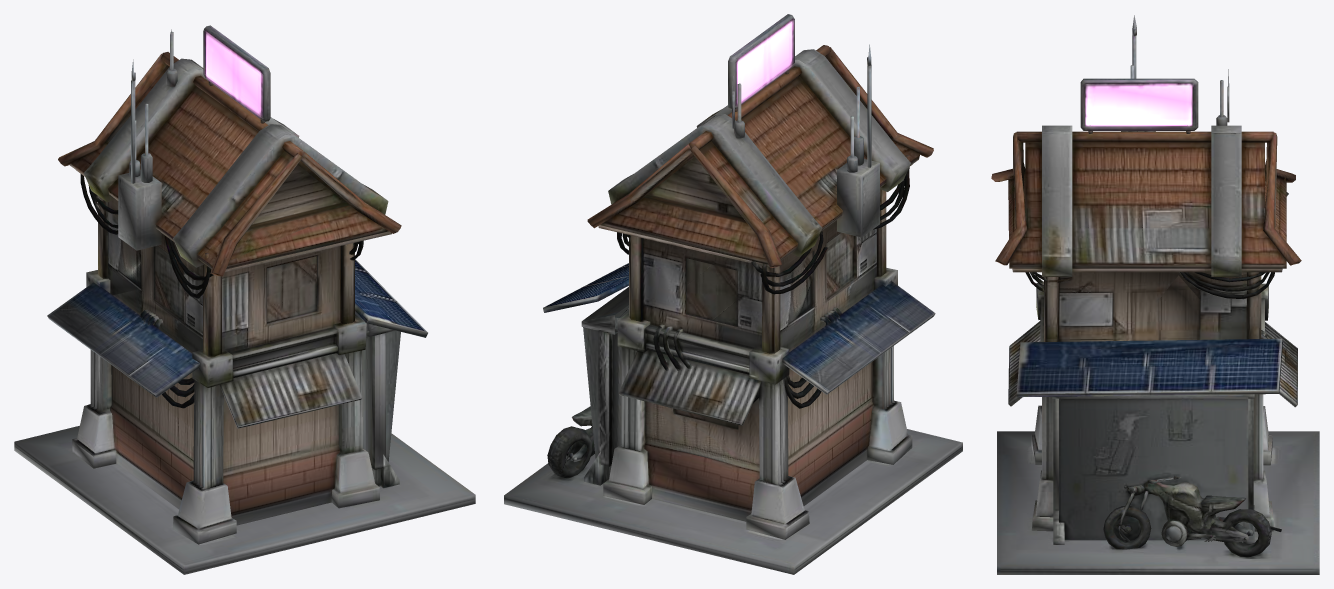
The model's file is battery_swap.glb.
3 views of the same model, side by side, from view 1: azimuth 30°, elevation 25°; view 2: azimuth 150°, elevation 25°; view 3: azimuth 270°, elevation 25° (orthographic). The views are drawn at different scales.
Parts seen in each view (by area): view 1: Body, Glow; view 2: Body, Glow; view 3: Body, Glow.
Boxes of the visible parts, left/top/right/bottom form: Body: left=14, top=25, right=475, bottom=574; Glow: left=203, top=31, right=263, bottom=123; Body: left=504, top=14, right=962, bottom=574; Glow: left=735, top=19, right=794, bottom=111; Body: left=991, top=15, right=1319, bottom=574; Glow: left=1085, top=85, right=1192, bottom=126.
Bounding box in the file's own units: 8 × 11.99 × 8.19.
2 materials, 2 textured.
